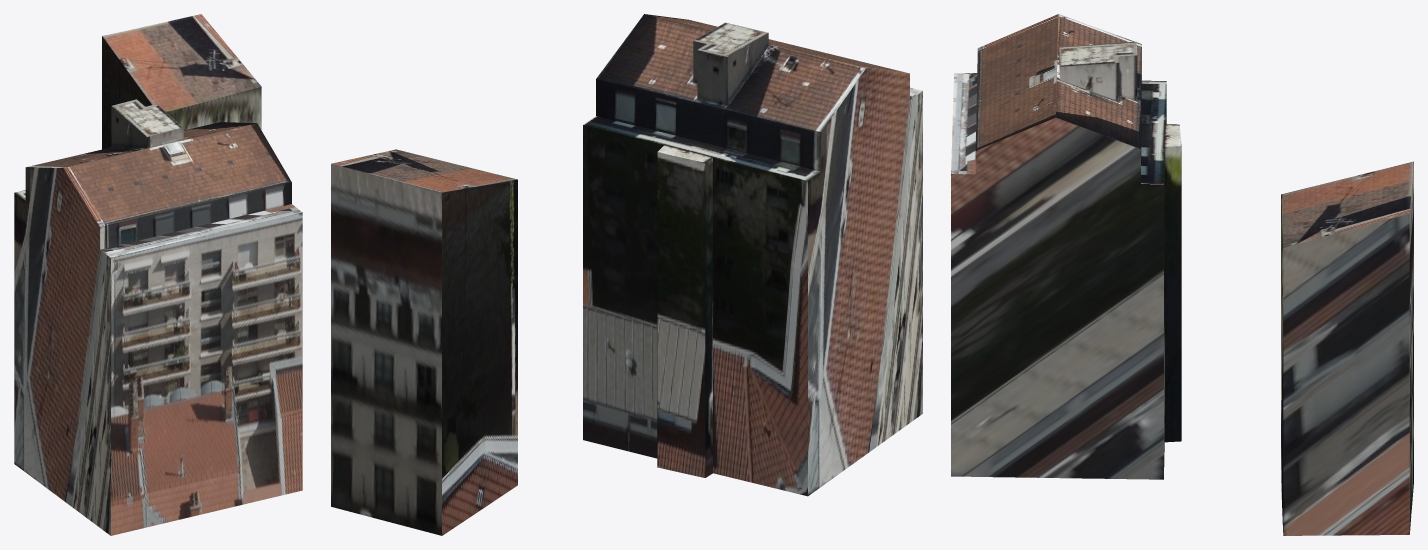
The picture shows the model from 3 angles, left to right: view 1: azimuth 30°, elevation 25°; view 2: azimuth 150°, elevation 25°; view 3: azimuth 270°, elevation 25°; orthographic projection. The views are drawn at different scales.
Parts seen in each view (by area): view 1: Z_UP; view 2: Z_UP; view 3: Z_UP.
Boxes of the visible parts, <box> form: Z_UP: <box>14,14,302,535</box>; Z_UP: <box>331,14,922,535</box>; Z_UP: <box>951,14,1413,535</box>.
Size of the model in its own units: 24.14 by 26.56 by 29.43.
2 materials, 1 textured.
